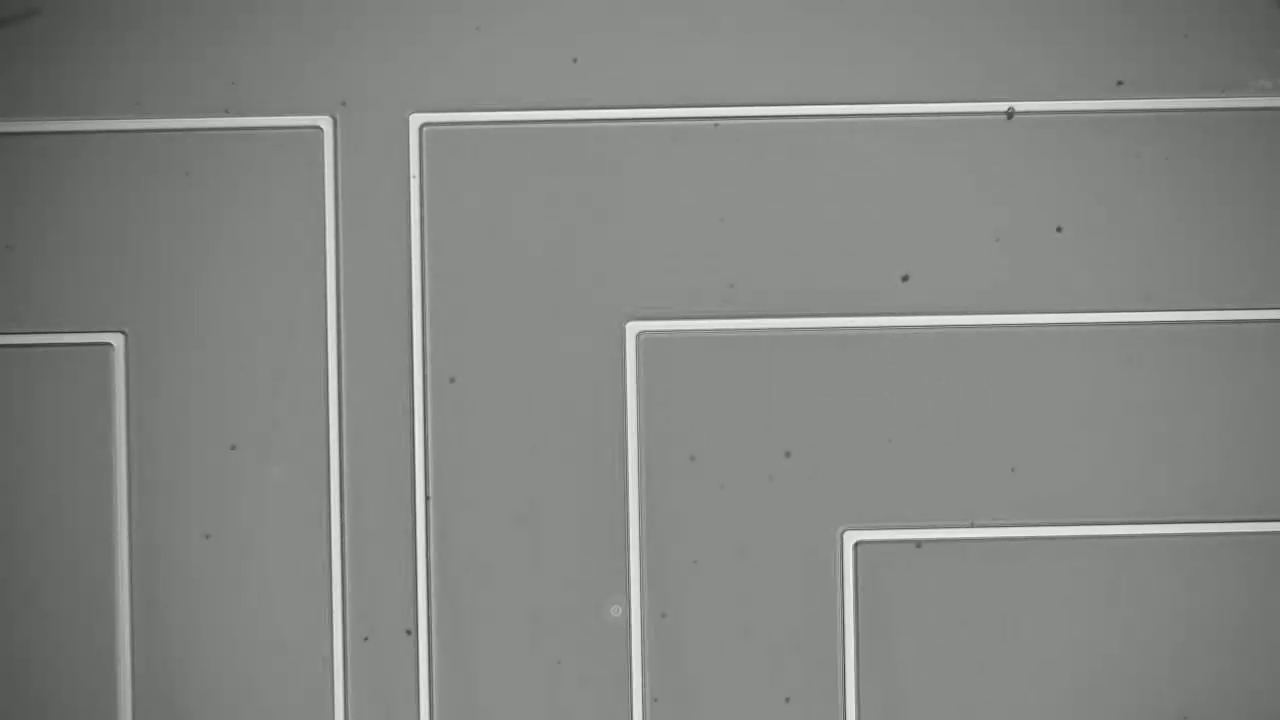stains_enbedded: (998, 90, 1024, 127)
